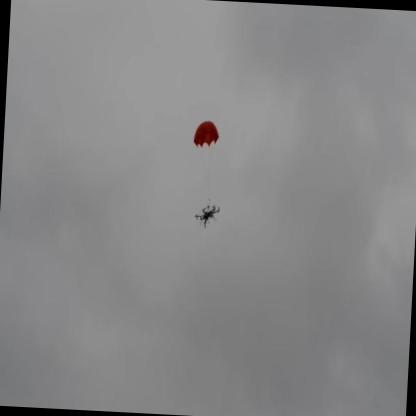drone: (192, 196, 220, 231)
